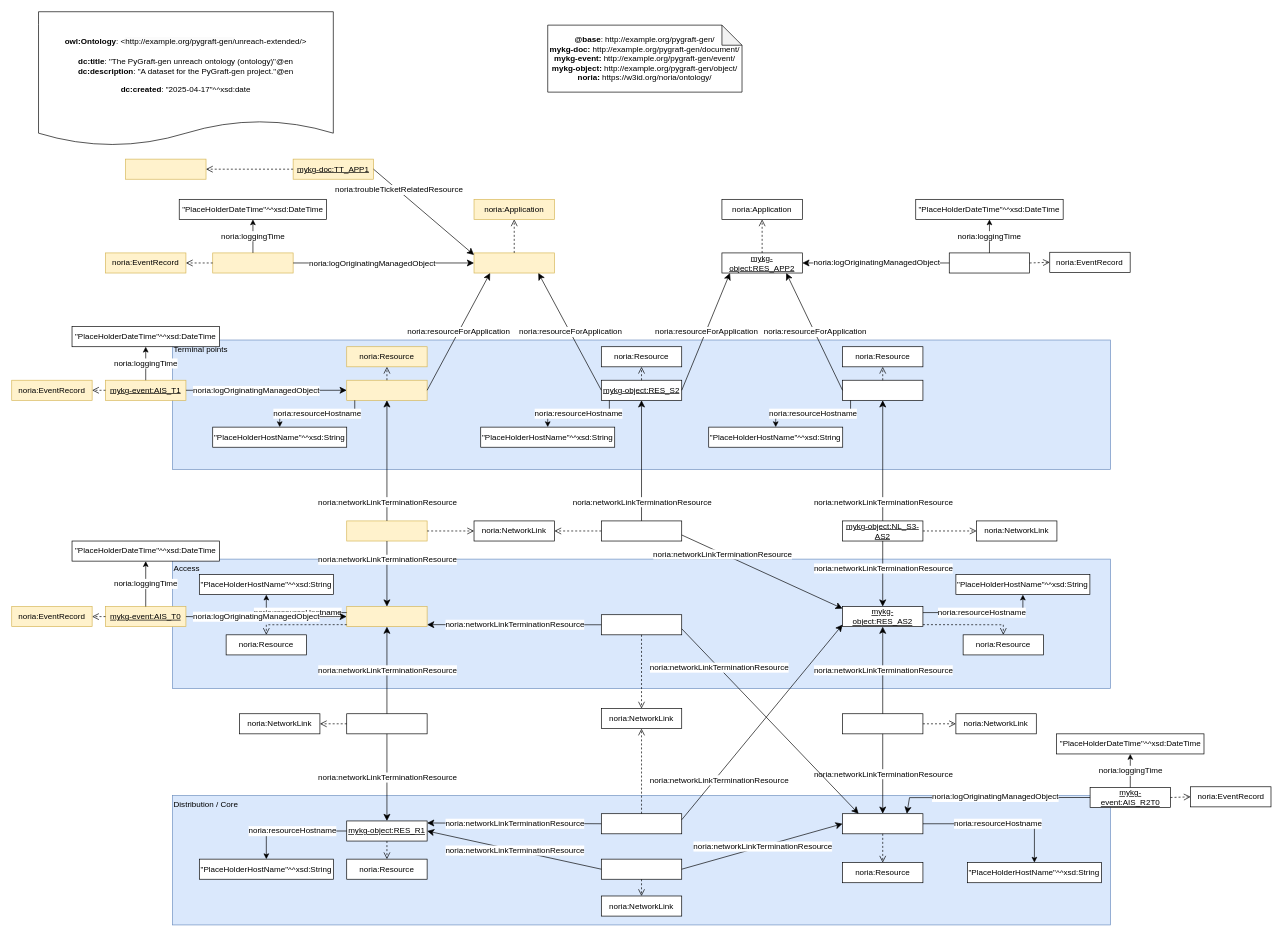
This 1283x937 diagram has some shape labels left out. The centre of each missing label's shape, as x and y in pixels:
mykg-event:AIS_APP2T0: (x=989, y=262)
mykg-event:AIS_T2: (x=252, y=262)
mykg-object:NL_AS1-R1: (x=386, y=723)
mykg-object:NL_AS1-R2: (x=641, y=624)
mykg-object:NL_AS2-R1: (x=641, y=823)
mykg-object:NL_AS2-R2: (x=882, y=723)
mykg-object:NL_R1-R2: (x=641, y=868)
mykg-object:NL_S1-AS1: (x=386, y=530)
mykg-object:NL_S2-AS2: (x=641, y=530)
mykg-object:RES_APP1: (x=513, y=262)
mykg-object:RES_AS1: (x=386, y=616)
mykg-object:RES_R2: (x=882, y=823)
mykg-object:RES_S1: (x=386, y=390)
mykg-object:RES_S3: (x=882, y=390)
noria:TroubleTicket: (x=165, y=168)
